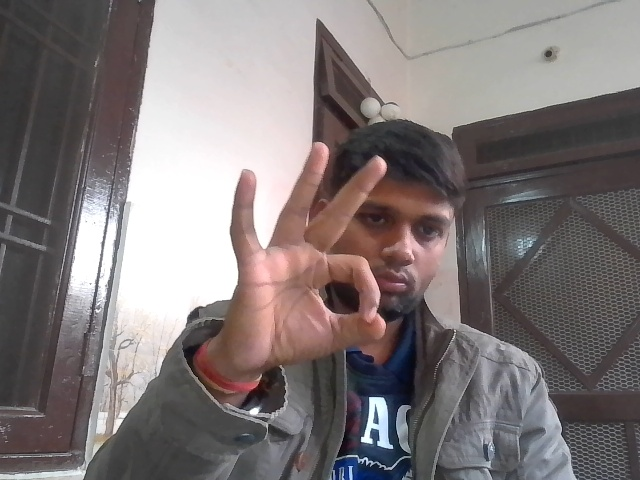Good: (213, 137, 392, 364)
